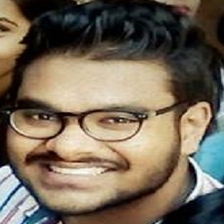no_mask: (11, 59, 181, 207)
